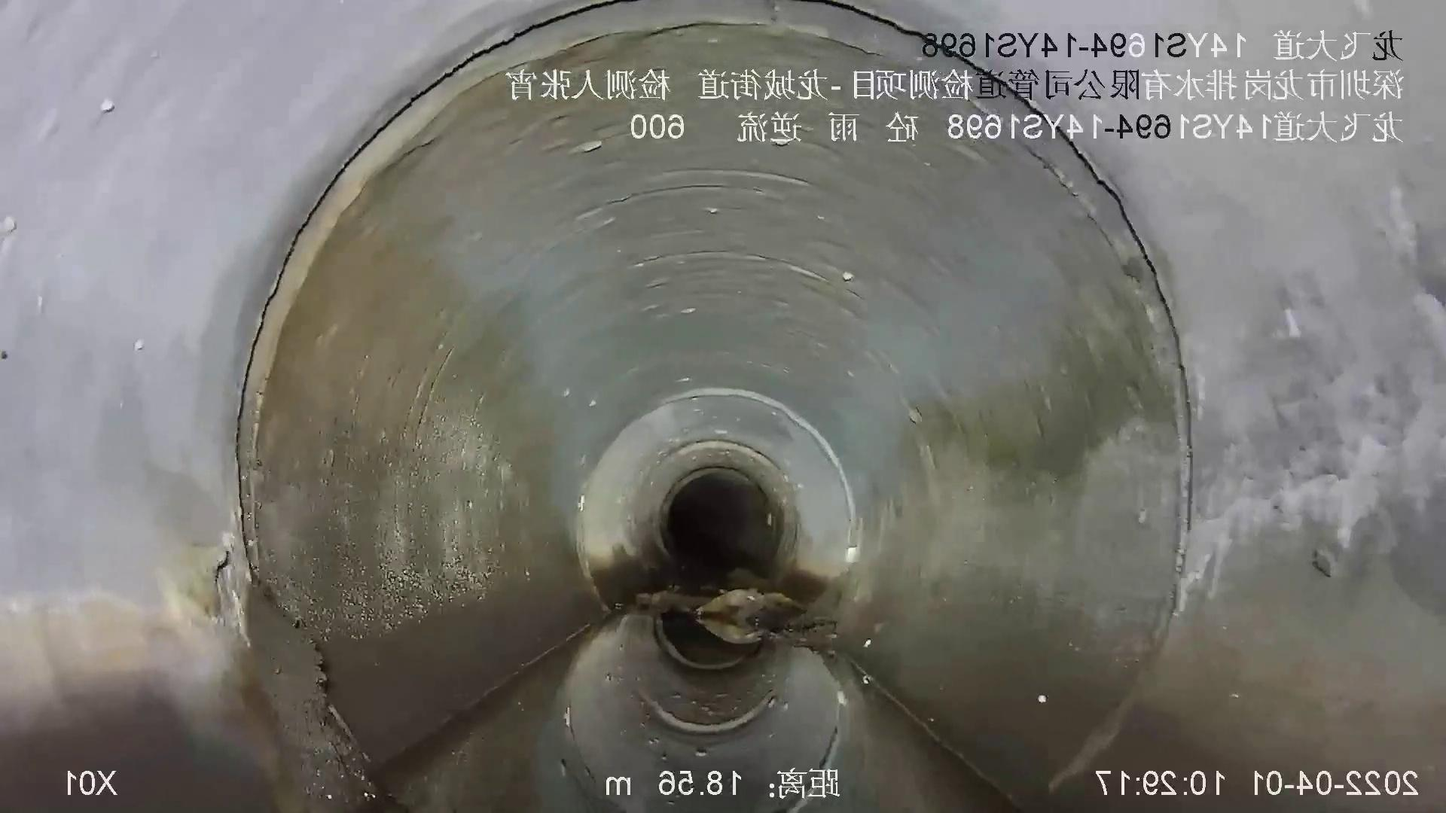CKTJ: (229, 1, 1198, 796), (662, 388, 856, 522), (635, 568, 838, 650), (657, 437, 801, 512), (658, 464, 770, 556)
